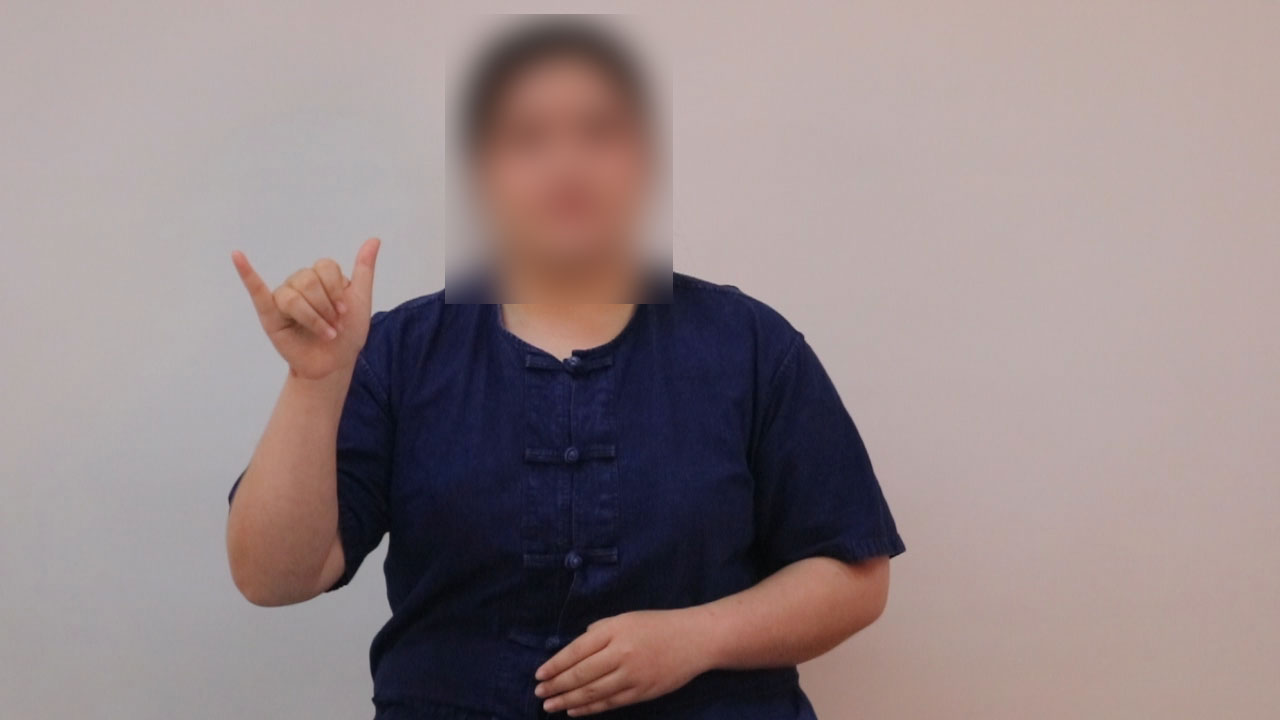yor: (221, 223, 395, 391)
